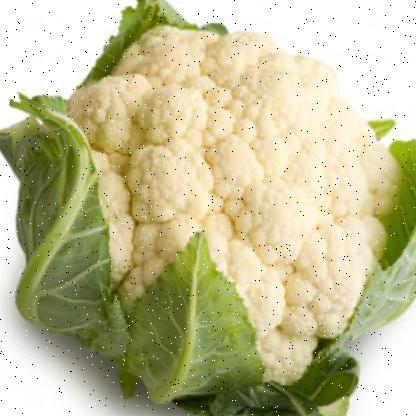cauliflower: (13, 18, 415, 415)
